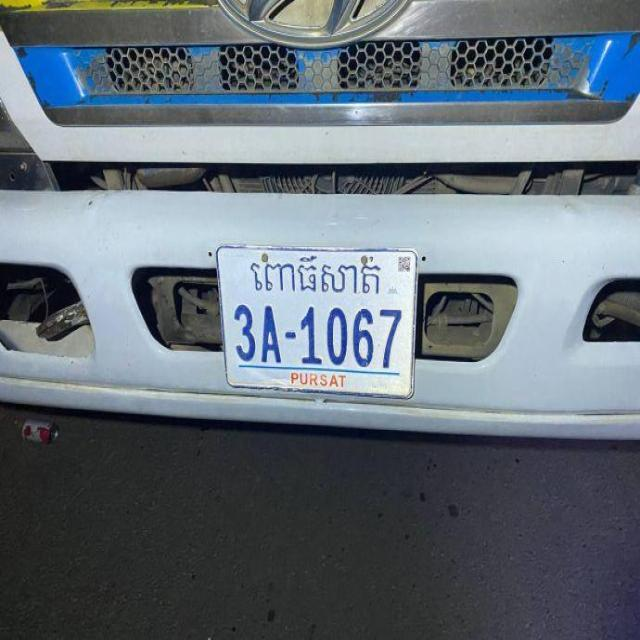Pursat: (250, 255, 380, 300)
